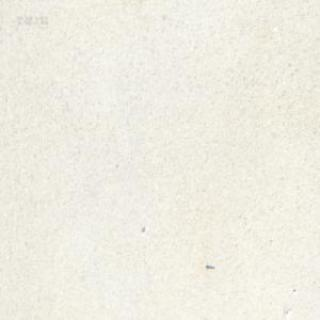Nailtrack_idkeyframe: (204, 262, 214, 269)
